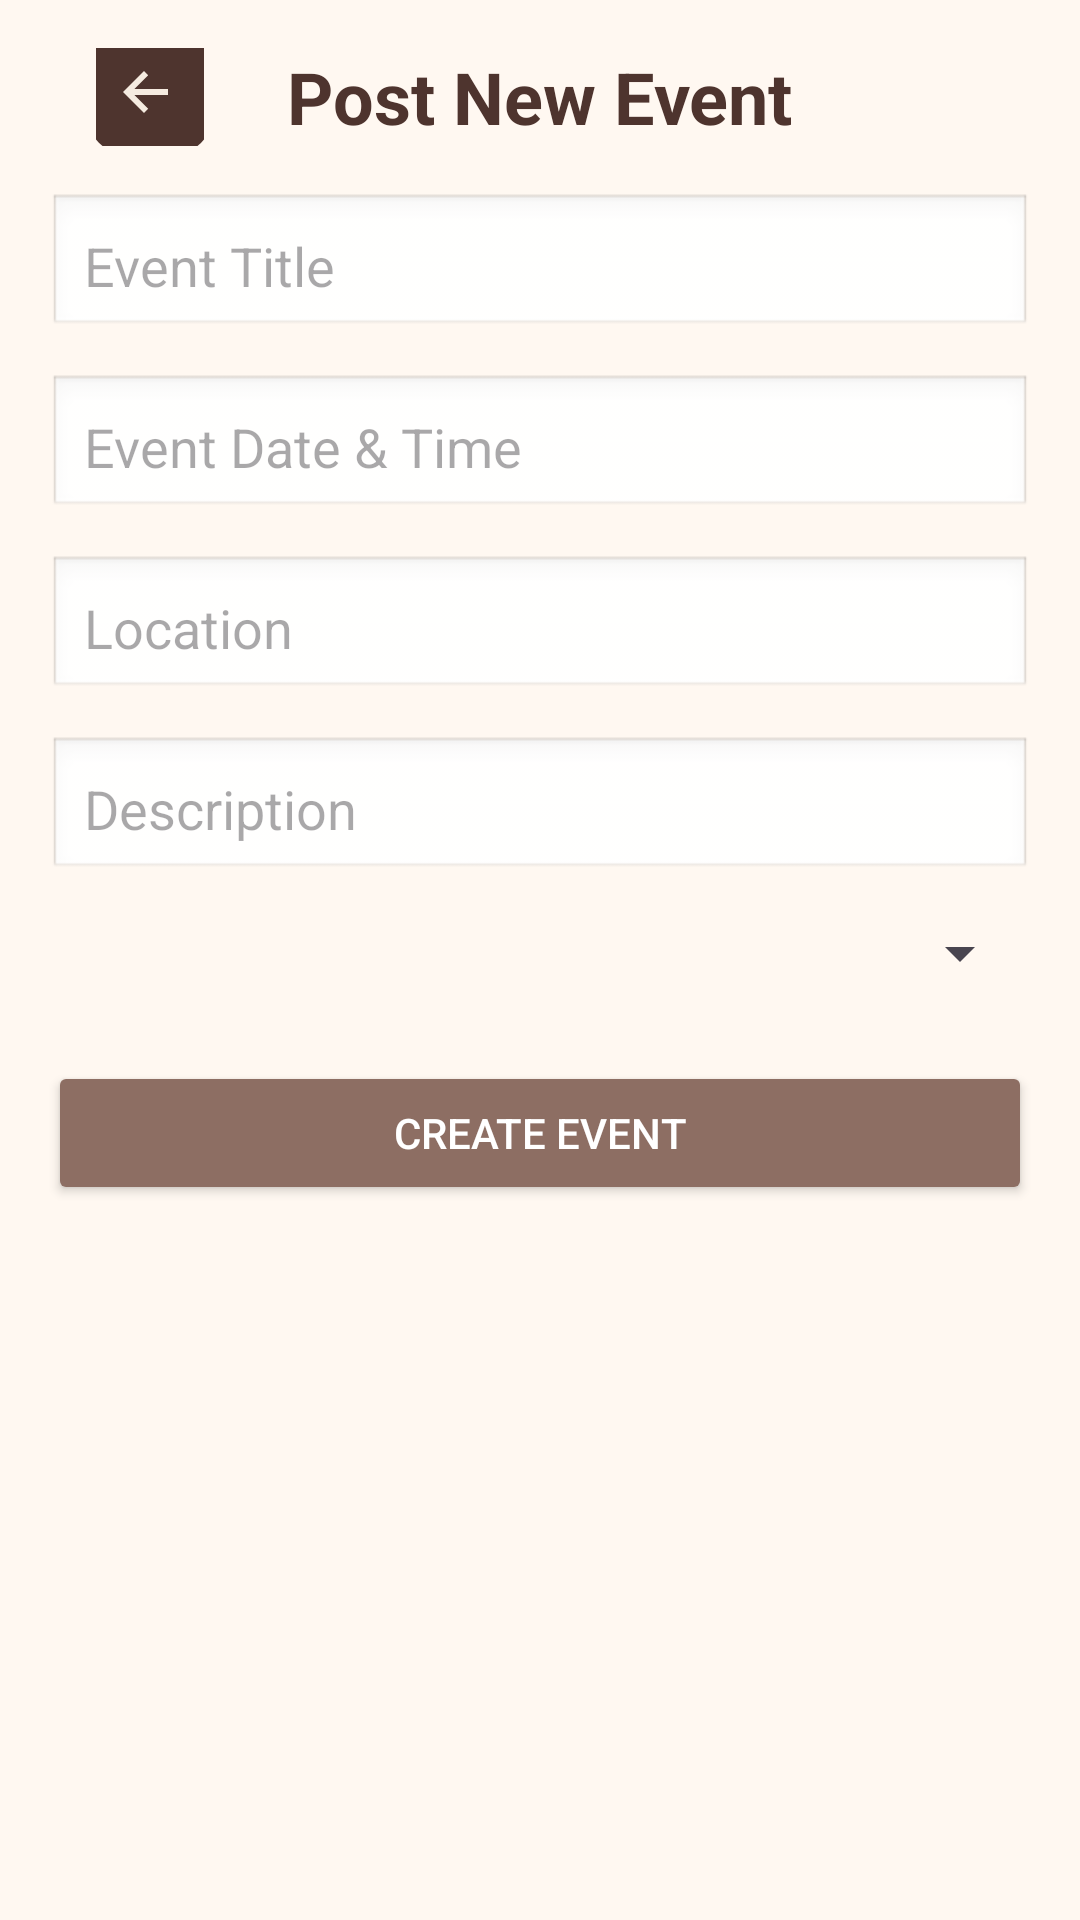

Where to tap for icons on this 1080w x 1920h app screen, as [x,y]:
Back: [150,97]
